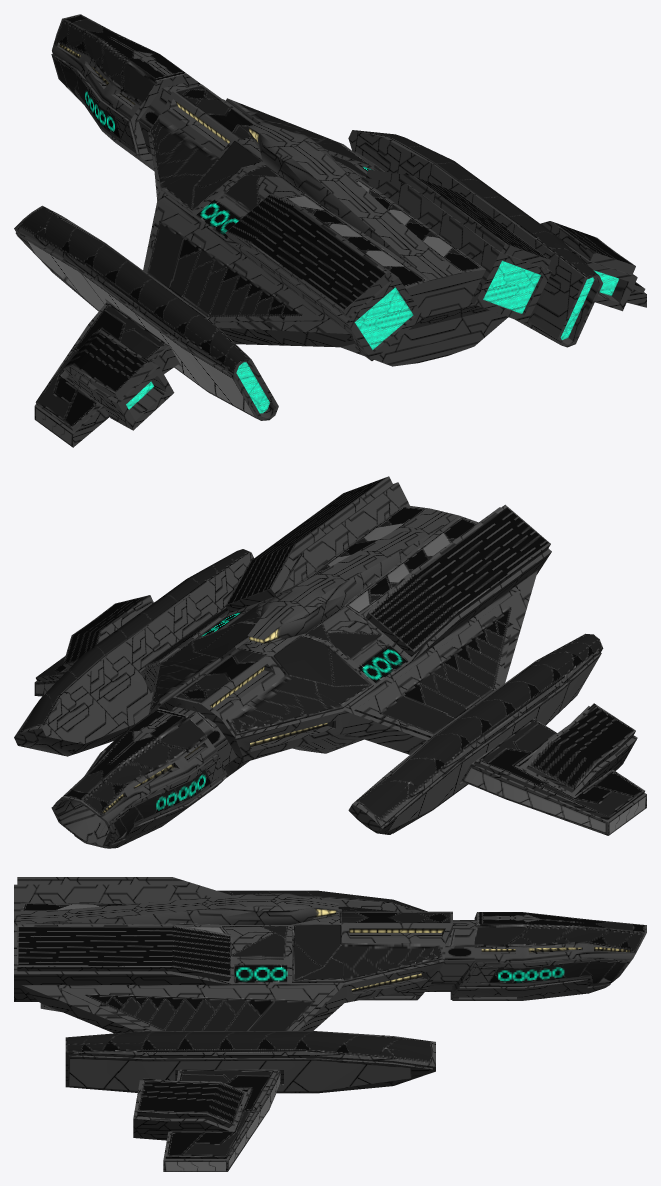
Rendered from Tef Battleship.fbx.
The picture shows the model from 3 angles, top to bottom: view 1: azimuth 30°, elevation 25°; view 2: azimuth 150°, elevation 25°; view 3: azimuth 270°, elevation 25°; orthographic projection. The views are drawn at different scales.
Parts seen in each view (by area): view 1: Cube; view 2: Cube; view 3: Cube.
Part boxes in pixels (box(x1,y1,x2,y2)): Cube: box(14, 14, 646, 447); Cube: box(14, 476, 646, 848); Cube: box(14, 877, 646, 1171).
Size of the model in its own units: 1944 by 595 by 2217.
1 material, 1 textured.
